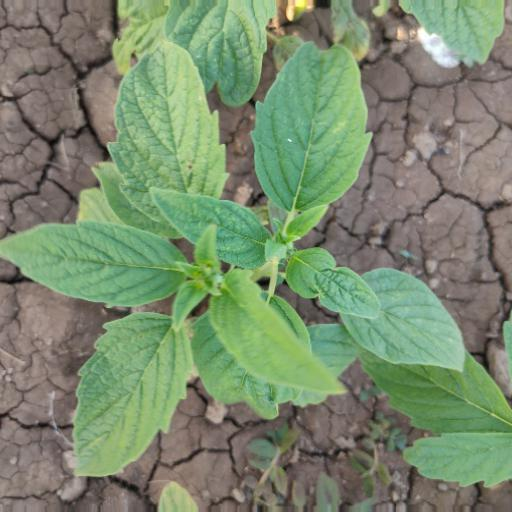crop: (1, 2, 483, 483)
